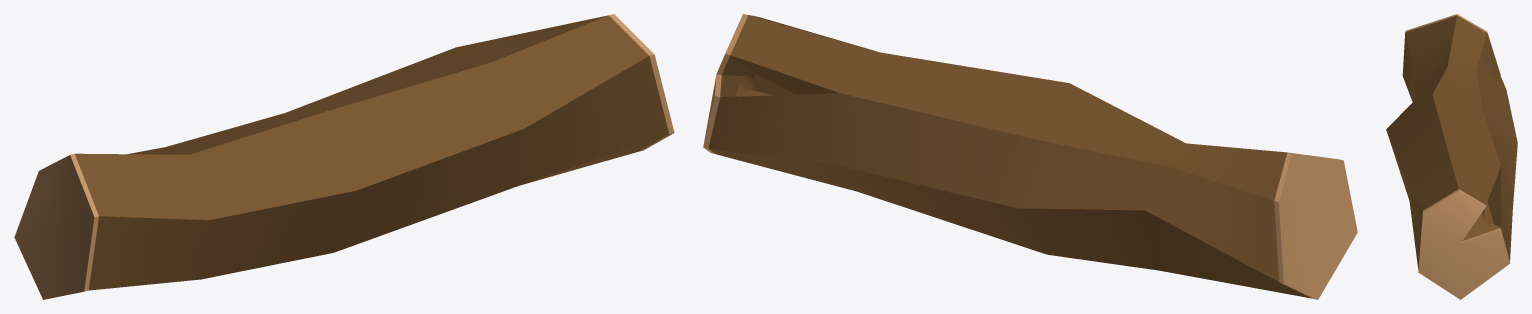
File: wood.fbx
The picture shows the model from 3 angles, left to right: view 1: azimuth 30°, elevation 25°; view 2: azimuth 150°, elevation 25°; view 3: azimuth 270°, elevation 25°; orthographic projection. The views are drawn at different scales.
Parts seen in each view (by area): view 1: polySurface1, polySurface3, polySurface2; view 2: polySurface1, polySurface3, polySurface2; view 3: polySurface1, polySurface2, polySurface3.
Boxes of the visible parts, x1,y1,x2,y2 form: polySurface1: [75, 15, 668, 290]; polySurface3: [14, 154, 98, 299]; polySurface2: [609, 14, 674, 151]; polySurface1: [708, 15, 1312, 298]; polySurface3: [1274, 152, 1357, 299]; polySurface2: [703, 14, 757, 153]; polySurface1: [1386, 15, 1517, 268]; polySurface2: [1418, 189, 1509, 299]; polySurface3: [1402, 14, 1500, 74].
Bounding box in the file's own units: 4.46 × 1.07 × 1.24.
